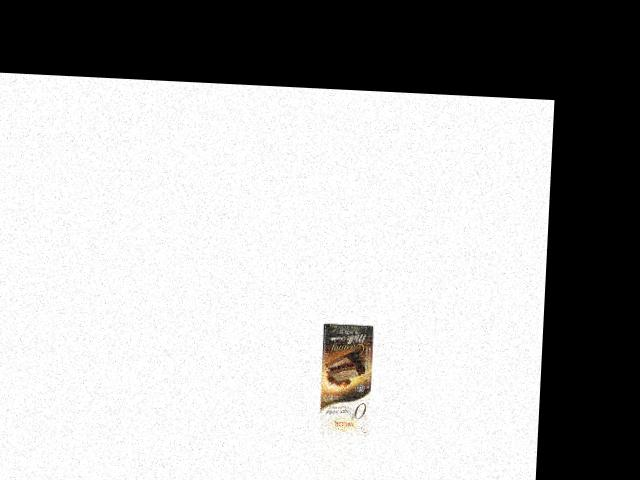chocolate: (316, 322, 377, 437)
